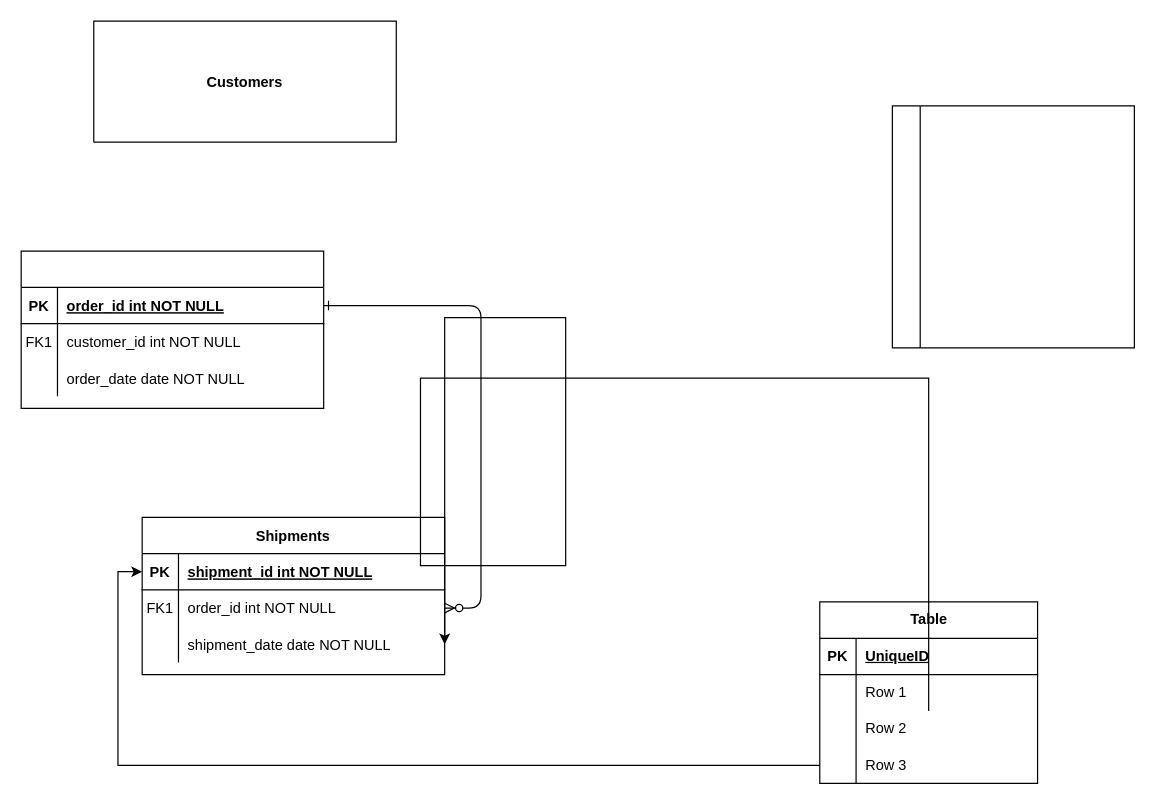
Some shapes in this 1156 by 805 pixel diagram are drawn without their labels. Here are the shapes that lost their labels. From the top down, the box of each, then its label:
(891, 105, 1134, 348): Horizontal Container
(20, 250, 324, 408): Orders
